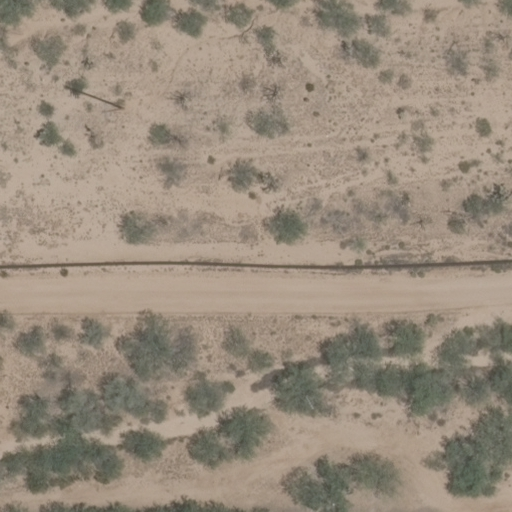DT: (65, 82, 126, 112)
